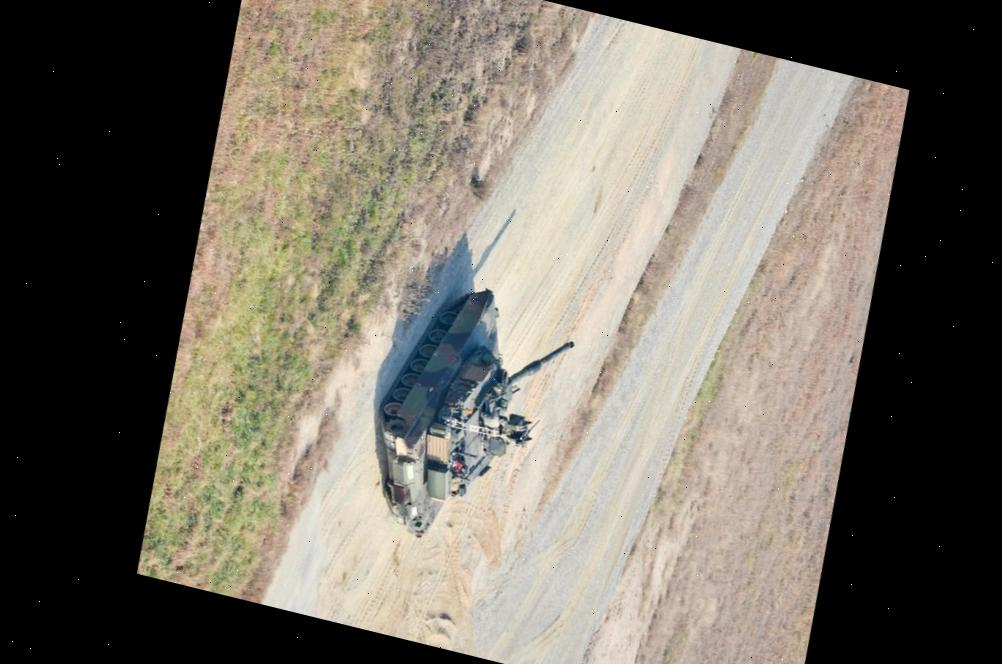tank: (341, 268, 596, 566)
